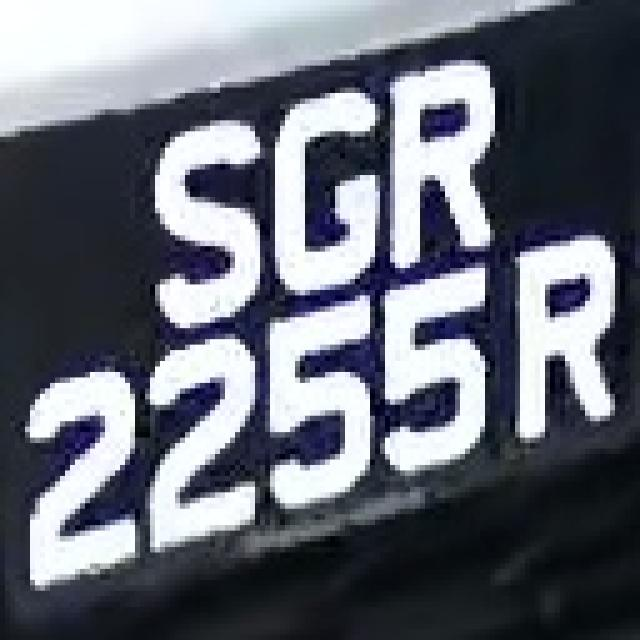2: (140, 328, 280, 569), (25, 356, 160, 602)
5: (370, 263, 495, 503), (255, 306, 375, 520)
G: (265, 60, 390, 301)
R: (375, 44, 500, 262), (495, 241, 615, 443)
S: (135, 109, 275, 334)
